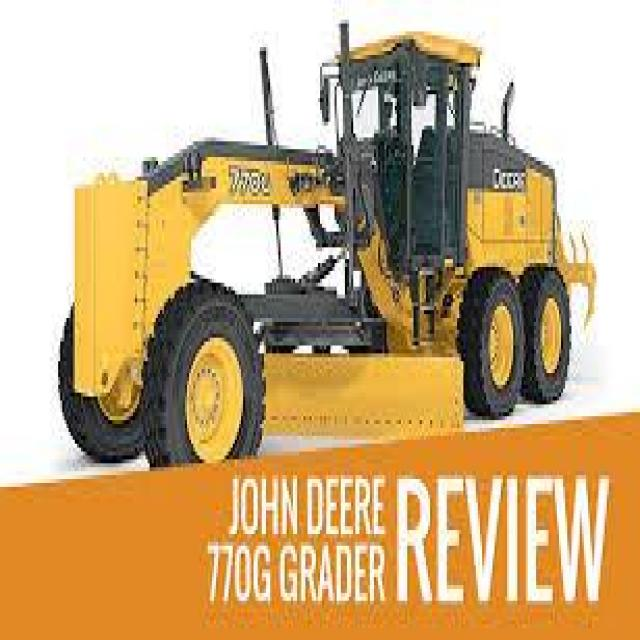Grader: (42, 12, 615, 510)
